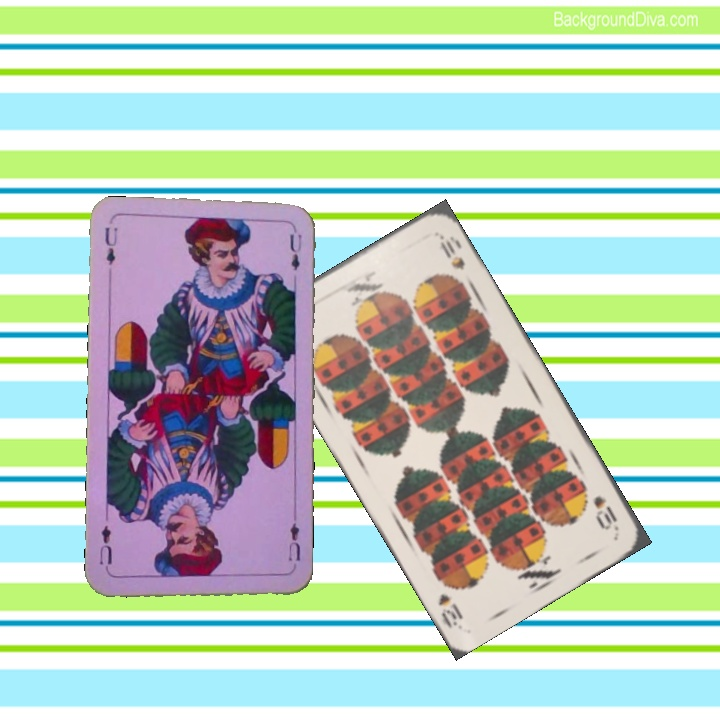EU: (284, 514, 303, 573), (101, 223, 120, 267)
S10: (589, 491, 622, 533)
